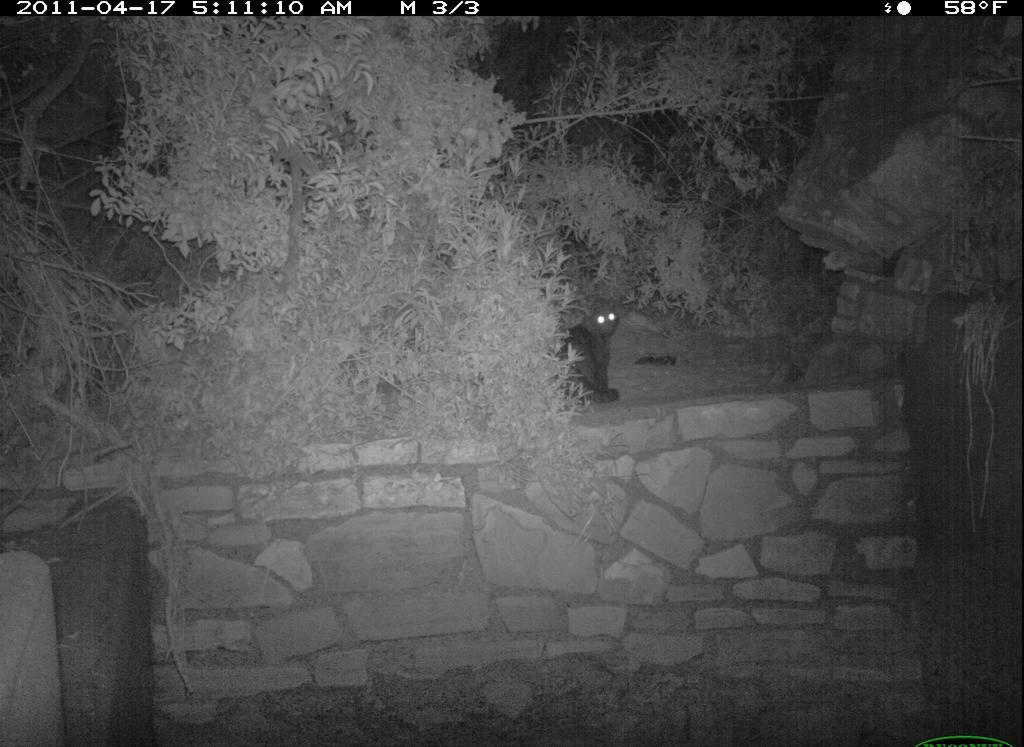cat: (546, 299, 628, 422)
